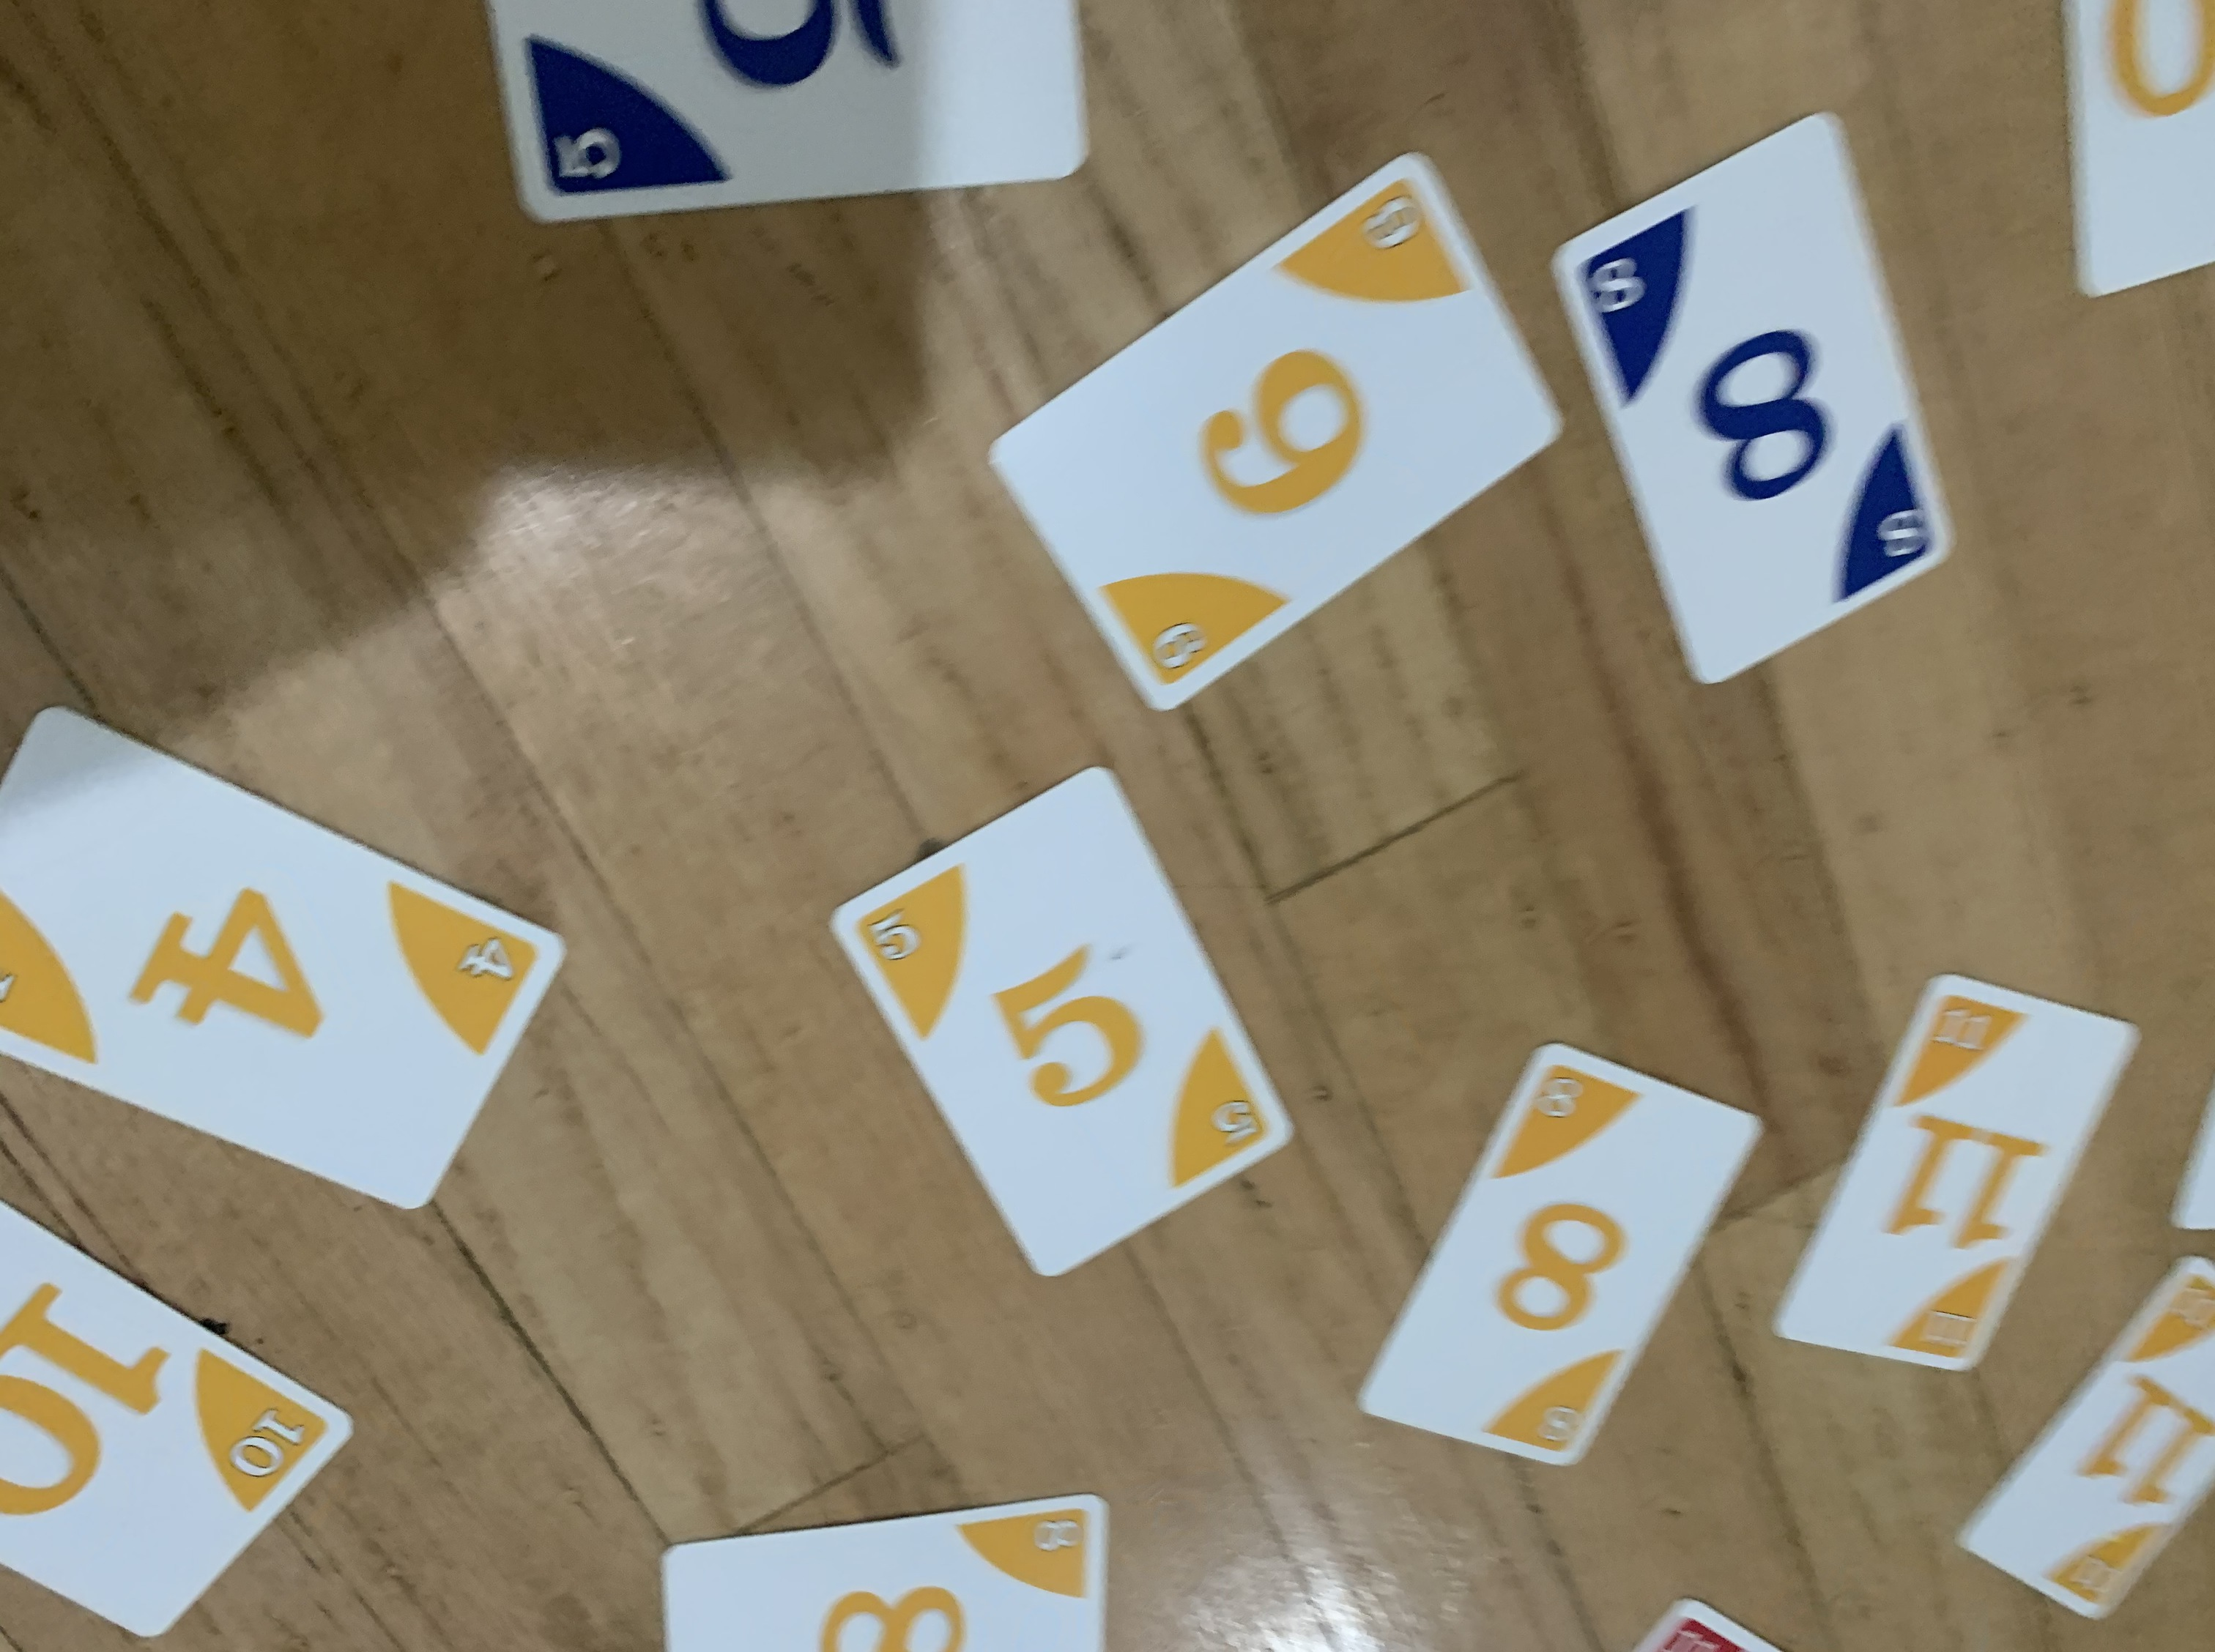eight: (1543, 104, 1962, 696), (1345, 1029, 1769, 1482)
eleven: (1760, 958, 2144, 1388)
five: (821, 762, 1305, 1289)
four: (0, 691, 578, 1222)
nine: (981, 146, 1569, 718)
